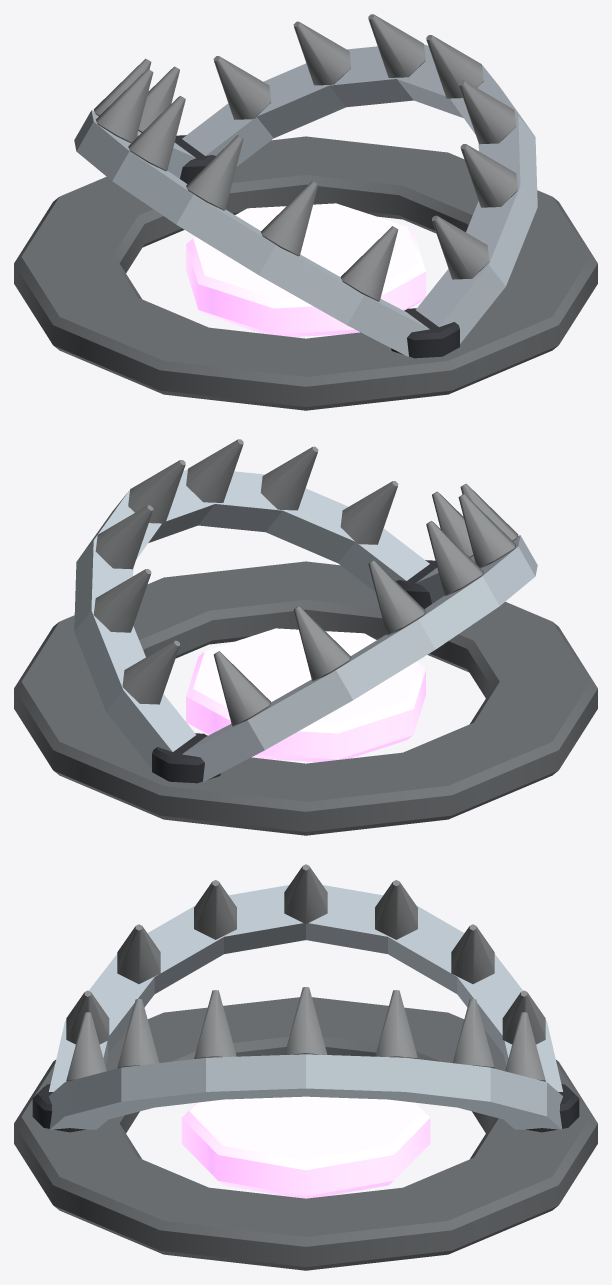
File: R4D_SnareTrap_LOD1.glb
3 renders of one model, top to bottom at view 1: azimuth 30°, elevation 25°; view 2: azimuth 150°, elevation 25°; view 3: azimuth 270°, elevation 25°, orthographic.
Visible parts, largest first — view 1: R4D_SnareTrap_LOD1; view 2: R4D_SnareTrap_LOD1; view 3: R4D_SnareTrap_LOD1.
Part boxes in pixels (x1=…): R4D_SnareTrap_LOD1: x1=14, y1=14, x2=597, y2=410; R4D_SnareTrap_LOD1: x1=14, y1=439, x2=597, y2=835; R4D_SnareTrap_LOD1: x1=14, y1=864, x2=597, y2=1270.
Bounding box in the file's own units: 0.47 × 0.1997 × 0.47.
